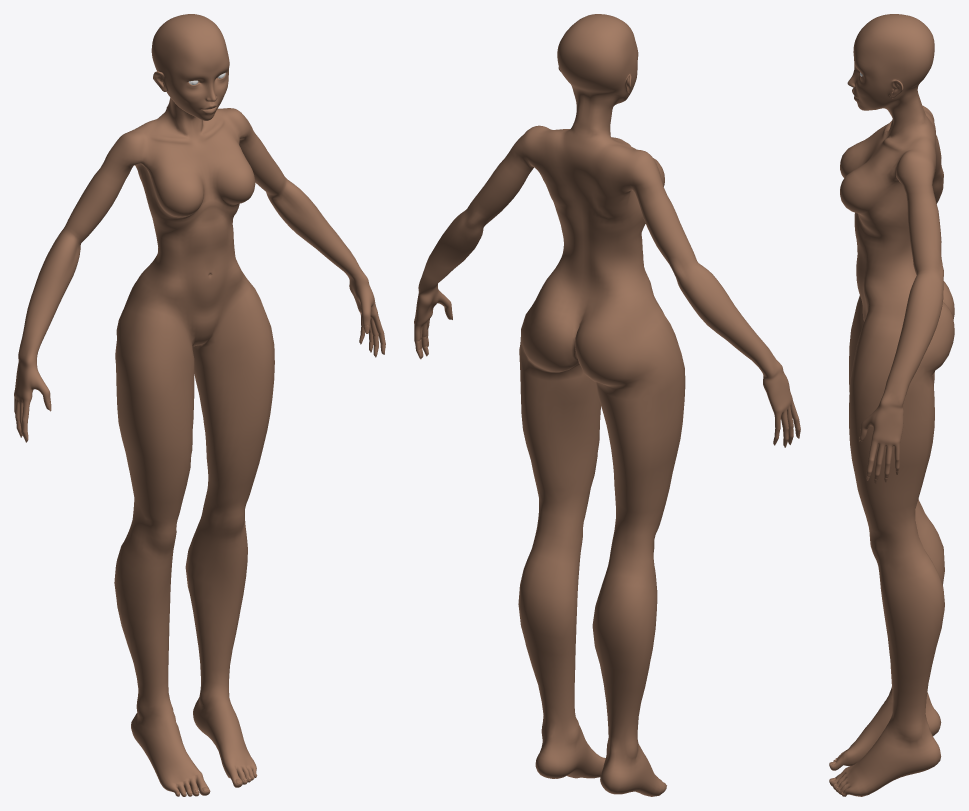
File: cuerpo_femenino.glb
3 views of the same model, side by side, from view 1: azimuth 30°, elevation 25°; view 2: azimuth 150°, elevation 25°; view 3: azimuth 270°, elevation 25° (orthographic). The views are drawn at different scales.
Visible parts, largest first — view 1: RETOPO.002; view 2: RETOPO.002; view 3: RETOPO.002.
Boxes of the visible parts, bbox=[...] form: RETOPO.002: bbox=[14, 14, 385, 796]; RETOPO.002: bbox=[414, 14, 800, 796]; RETOPO.002: bbox=[829, 14, 954, 796].
Bounding box in the file's own units: 0.9287 × 1.83 × 0.2747.
